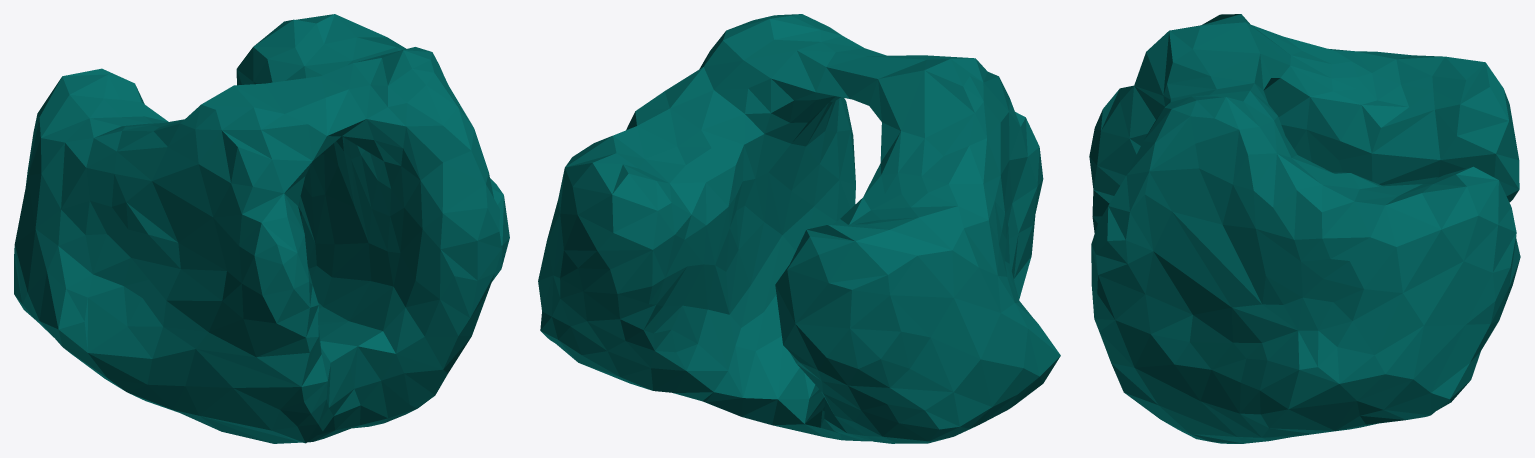
File: 80-MDC-mediodorsal thalamic nucleus, central part-('0.0000', '0.4980', '0.4784').obj
3 renders of one model, left to right at view 1: azimuth 30°, elevation 25°; view 2: azimuth 150°, elevation 25°; view 3: azimuth 270°, elevation 25°, orthographic. The views are drawn at different scales.
Bounding box in the file's own units: 62.3 × 46.77 × 50.63.
